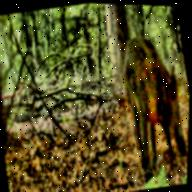boar: (104, 24, 191, 167)
